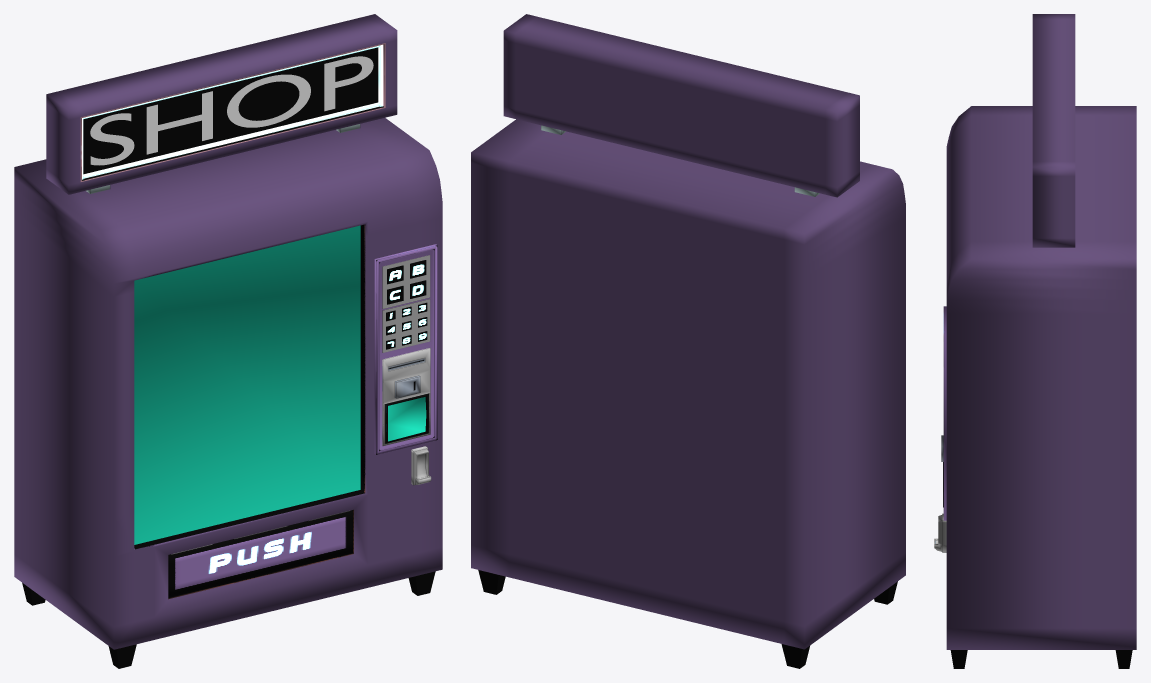
The model's file is ShopEdited.glb.
3 views of the same model, side by side, from view 1: azimuth 30°, elevation 25°; view 2: azimuth 150°, elevation 25°; view 3: azimuth 270°, elevation 25° (orthographic). The views are drawn at different scales.
Visible parts, largest first — view 1: Vending Machine, Text; view 2: Vending Machine; view 3: Vending Machine.
Part boxes in pixels (x1=…): Vending Machine: x1=14, y1=14, x2=442, y2=668; Text: x1=90, y1=56, x2=373, y2=165; Vending Machine: x1=471, y1=14, x2=905, y2=668; Vending Machine: x1=934, y1=14, x2=1136, y2=668.
Size of the model in its own units: 2.85 by 4.4 by 1.6.
Materials: 5 (1 with a texture image).
